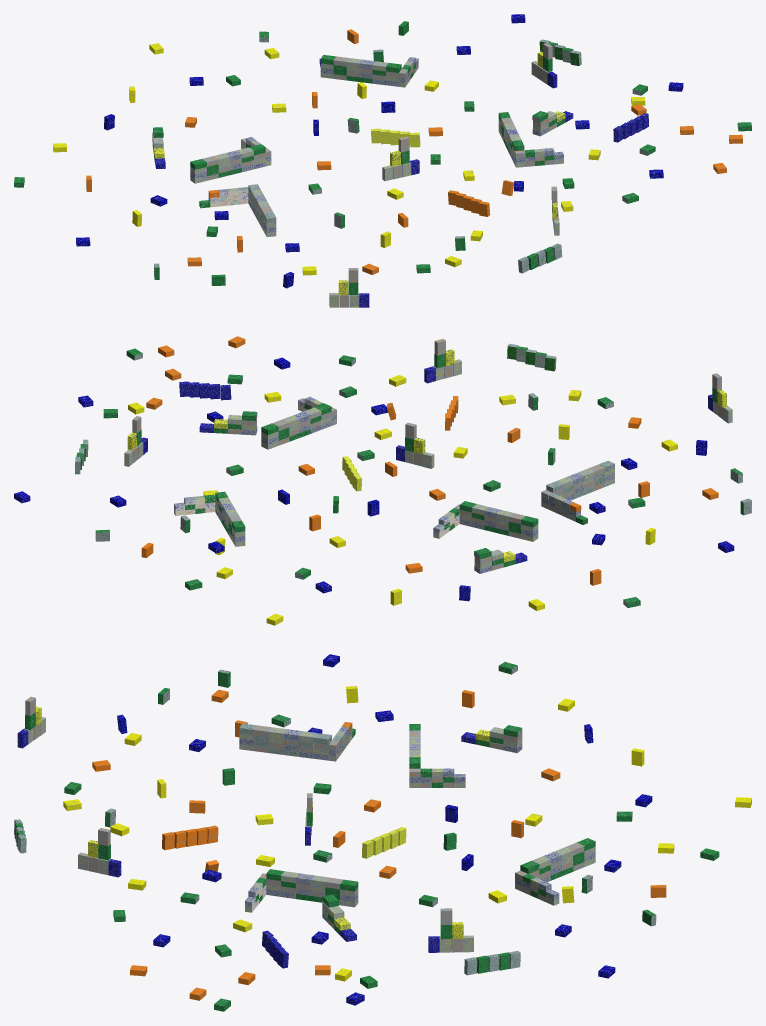
File: blok.fbx
3 views of the same model, one above another, from view 1: azimuth 30°, elevation 25°; view 2: azimuth 150°, elevation 25°; view 3: azimuth 270°, elevation 25° (orthographic). The views are drawn at different scales.
Visible parts, largest first — view 1: Group49, Group30, Group20, Group50, Group84, Group11, Group12, Group83, Group13, Group74, Group48, Group70 (+1 smaller); view 2: Group30, Group20, Group50, Group49, Group11, Group8, Group83, Group76, Group70, Group13, Group12, Group84; view 3: Group20, Group50, Group49, Group30, Group12, Group8, Group76, Group2, Group48, Group84, Group83, Group74.
Part boxes in pixels (bbox=[...]): Group49: bbox=[320, 55, 418, 87]; Group30: bbox=[190, 137, 271, 183]; Group20: bbox=[199, 184, 276, 236]; Group50: bbox=[498, 112, 563, 167]; Group84: bbox=[329, 268, 369, 307]; Group11: bbox=[382, 136, 419, 181]; Group12: bbox=[531, 43, 557, 88]; Group83: bbox=[532, 111, 573, 136]; Group13: bbox=[518, 243, 562, 273]; Group74: bbox=[371, 128, 420, 147]; Group48: bbox=[448, 190, 490, 216]; Group70: bbox=[613, 113, 648, 142]; Group30: bbox=[433, 501, 538, 541]; Group20: bbox=[541, 460, 614, 524]; Group50: bbox=[261, 396, 336, 449]; Group49: bbox=[174, 491, 245, 546]; Group11: bbox=[396, 422, 434, 468]; Group8: bbox=[424, 339, 461, 383]; Group83: bbox=[199, 411, 257, 435]; Group76: bbox=[474, 548, 527, 573]; Group70: bbox=[179, 381, 231, 400]; Group13: bbox=[507, 343, 556, 371]; Group12: bbox=[124, 416, 147, 466]; Group84: bbox=[708, 373, 732, 423]; Group20: bbox=[239, 722, 355, 761]; Group50: bbox=[245, 869, 358, 912]; Group49: bbox=[515, 838, 595, 905]; Group30: bbox=[409, 724, 465, 787]; Group12: bbox=[428, 908, 473, 952]; Group8: bbox=[78, 828, 121, 877]; Group76: bbox=[461, 725, 522, 753]; Group2: bbox=[464, 950, 520, 975]; Group48: bbox=[162, 825, 218, 850]; Group84: bbox=[17, 696, 45, 748]; Group83: bbox=[322, 894, 356, 941]; Group74: bbox=[362, 827, 406, 858].
Size of the model in its own units: 17629 by 1560 by 15604.
